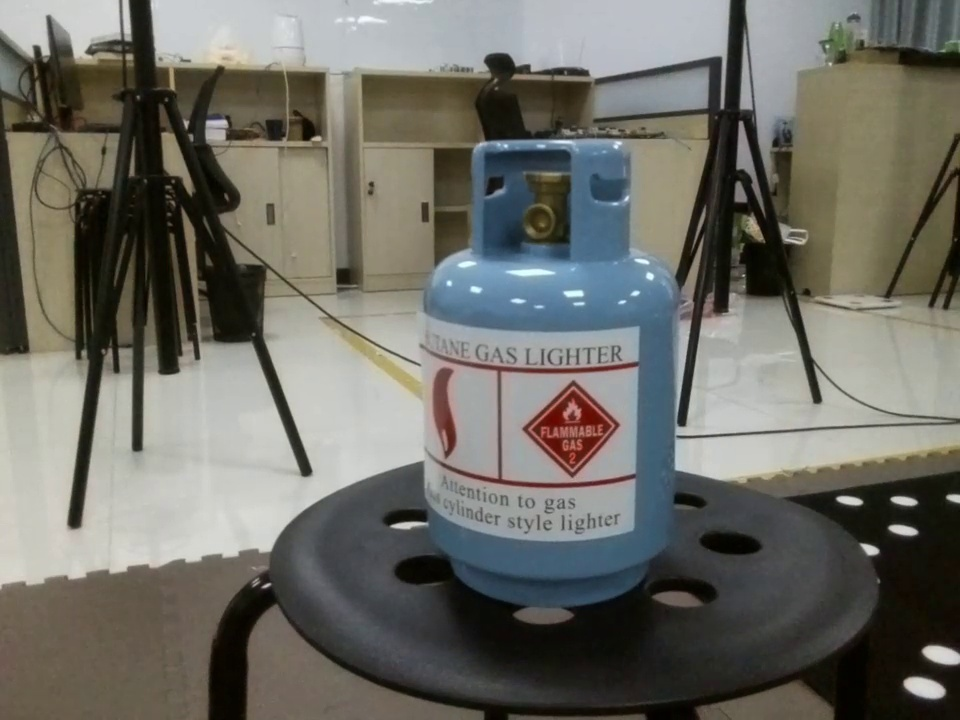gas tank: (412, 144, 677, 610)
